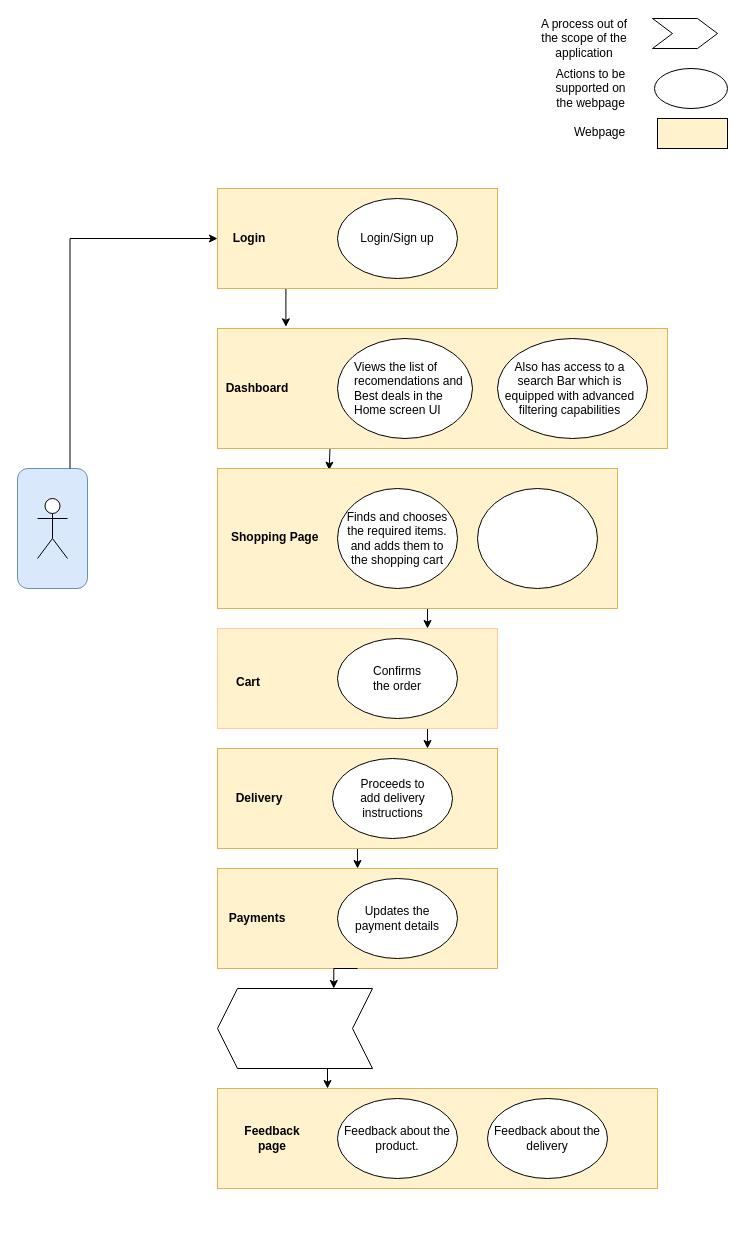
The diagram is 745 pixels wide and 1246 high, and some of its shapes have lost their labels. Each missing label, with the centre of its shape:
Customer: the point at 52,528
Finds and chooses the required items. and adds them to the Wishlist: the point at 537,538
Receives the product / Product delivered: the point at 294,1028
